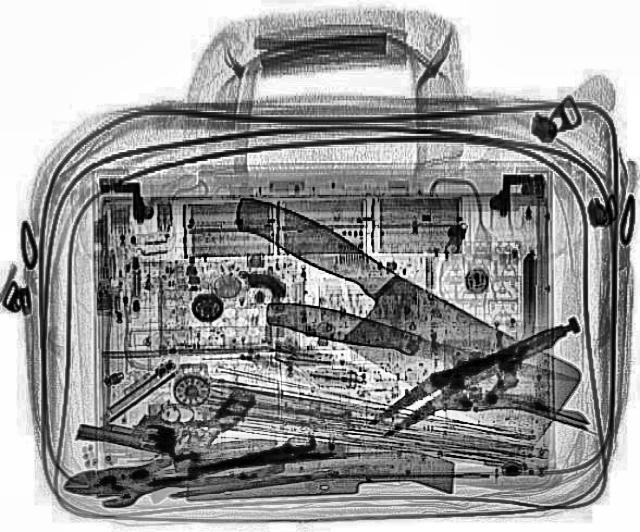Gun: (73, 367, 255, 467)
Knife: (182, 185, 596, 449), (260, 296, 580, 390)
Pliers: (57, 435, 283, 511)
Wrench: (90, 429, 320, 511)
